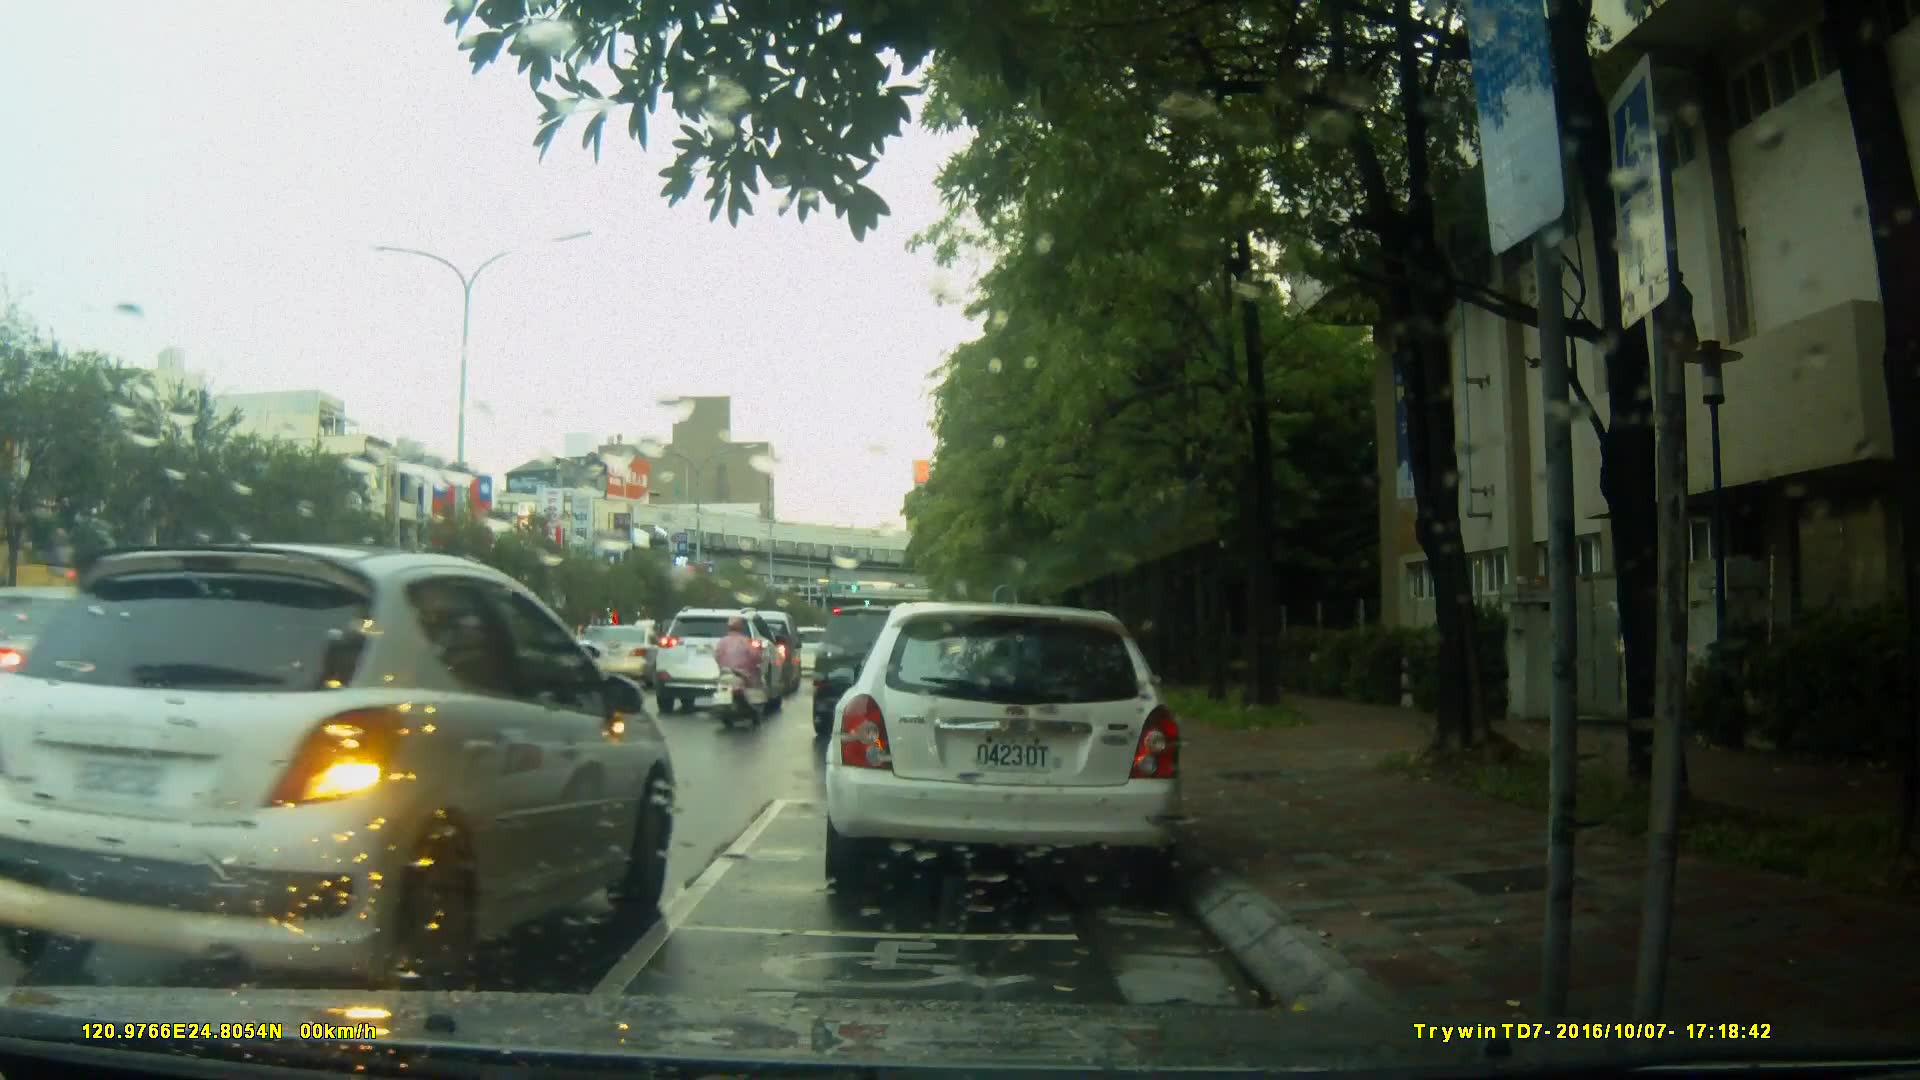rider: (708, 609, 765, 736)
vehicle: (1, 539, 686, 991), (820, 602, 1188, 898), (654, 607, 787, 718)
